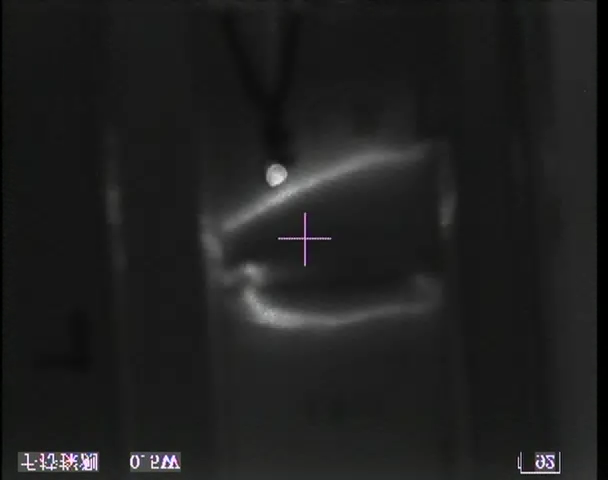my: (264, 162, 289, 187)
